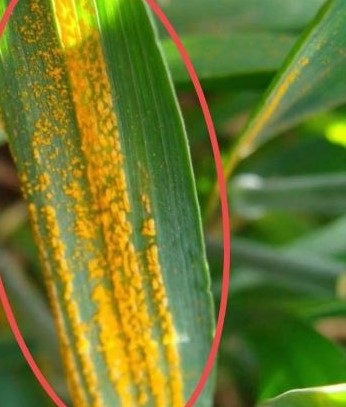Leaf Rust: (24, 54, 197, 398)
